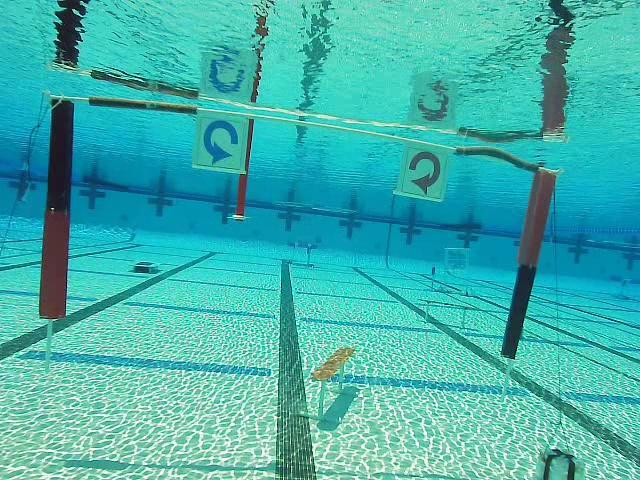dropper: (131, 258, 161, 275)
gate: (39, 94, 561, 360)
gate_blue: (195, 116, 247, 172)
gate_leg_l: (39, 93, 77, 319)
gate_leg_r: (501, 167, 560, 360)
gate_red: (399, 146, 449, 200)
table: (285, 240, 317, 269)
torpedo: (446, 248, 467, 269)
